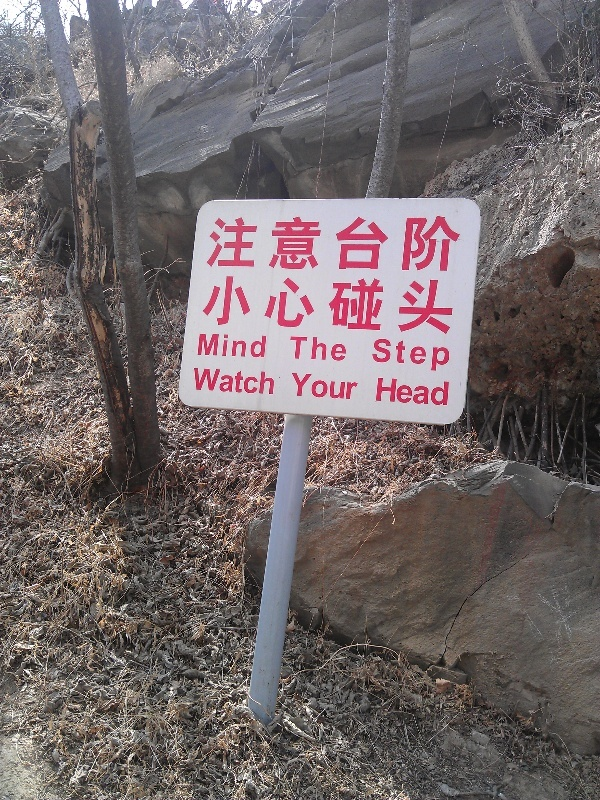text: (209, 277, 224, 336), (225, 277, 240, 336), (241, 277, 256, 336), (257, 277, 272, 336), (273, 277, 288, 336), (289, 277, 304, 336), (305, 277, 320, 336), (321, 277, 336, 336), (337, 277, 352, 336), (353, 277, 368, 336), (369, 277, 384, 336), (385, 277, 400, 336), (401, 277, 416, 336), (417, 277, 432, 336), (433, 277, 448, 336), (225, 215, 240, 273), (241, 215, 256, 273), (257, 215, 272, 273), (273, 215, 288, 273), (289, 215, 304, 273), (305, 215, 320, 273), (321, 215, 336, 273), (337, 215, 352, 273), (353, 215, 368, 273), (369, 215, 384, 273), (385, 215, 400, 273), (401, 215, 416, 273), (417, 215, 432, 273), (433, 215, 448, 273), (211, 215, 224, 273), (449, 215, 462, 273), (385, 338, 400, 373), (401, 338, 416, 373), (417, 338, 432, 373), (433, 338, 448, 373), (385, 376, 400, 408), (401, 376, 416, 408), (417, 376, 432, 408), (433, 376, 448, 408), (449, 277, 457, 336), (209, 330, 224, 361), (225, 330, 240, 361), (241, 330, 256, 361), (305, 372, 320, 403), (321, 372, 336, 403), (337, 372, 352, 403), (305, 335, 320, 363), (321, 335, 336, 363), (209, 368, 224, 395), (225, 368, 240, 395), (241, 368, 256, 395), (257, 368, 272, 395), (290, 335, 304, 363), (373, 338, 384, 373), (194, 368, 208, 395), (257, 330, 269, 361), (292, 372, 304, 403), (198, 330, 208, 361), (337, 335, 348, 363), (377, 376, 384, 408), (353, 372, 360, 403), (449, 376, 452, 408), (449, 338, 451, 373), (273, 368, 275, 395)
